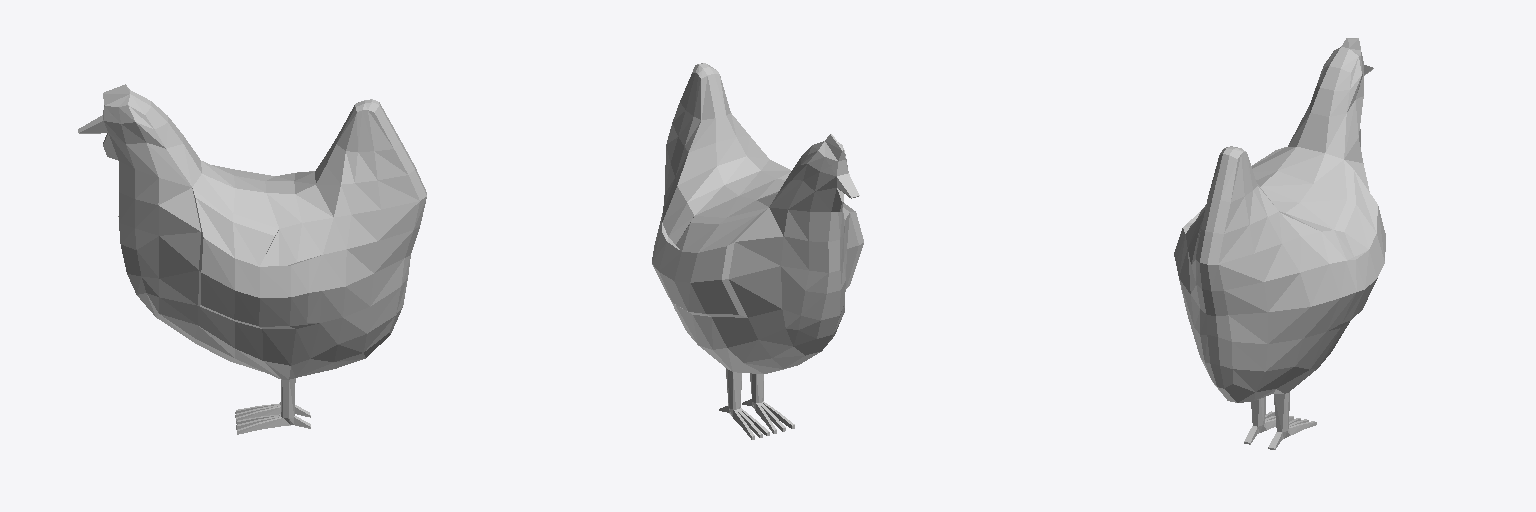
The model's file is chicken.obj.
3 views of the same model, side by side, from view 1: azimuth 30°, elevation 25°; view 2: azimuth 150°, elevation 25°; view 3: azimuth 270°, elevation 25° (orthographic).
Visible parts, largest first — view 1: Chicken; view 2: Chicken; view 3: Chicken.
Part boxes in pixels (x1,y1,x2,y2): Chicken: (78,84,426,434); Chicken: (652,63,863,439); Chicken: (1174,38,1385,449).
Size of the model in its own units: 0.3314 by 0.4005 by 0.2264.